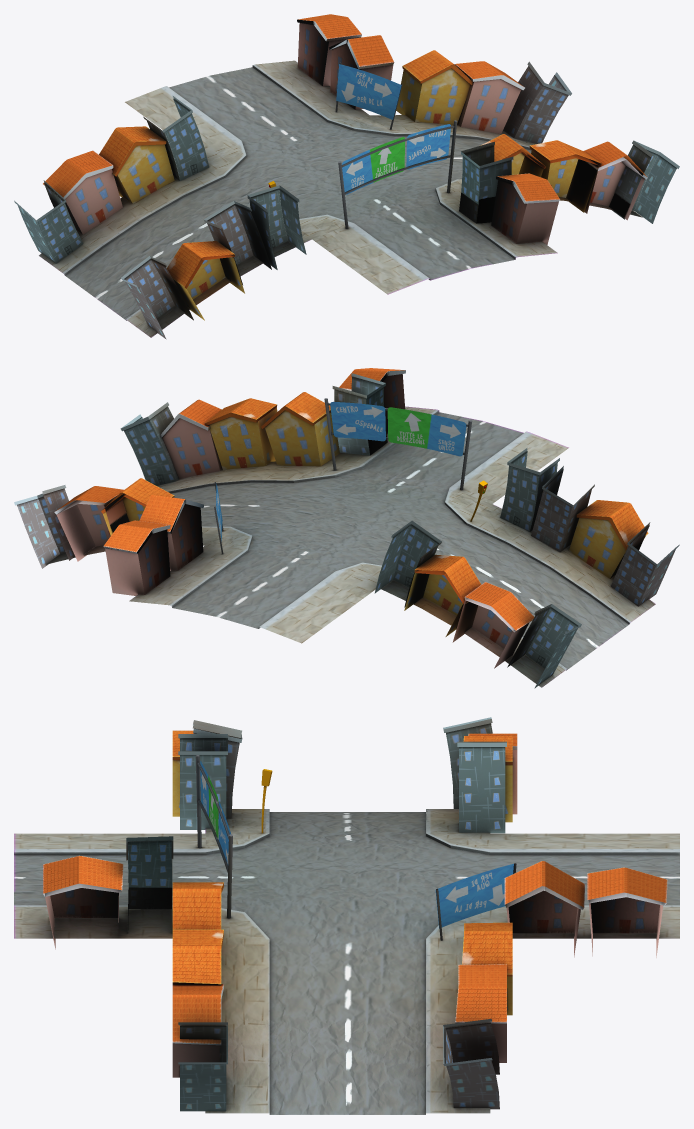
Rendered from modulo_B.FBX.
3 renders of one model, top to bottom at view 1: azimuth 30°, elevation 25°; view 2: azimuth 150°, elevation 25°; view 3: azimuth 270°, elevation 25°, orthographic. The views are drawn at different scales.
Parts seen in each view (by area): view 1: modulo_B; view 2: modulo_B; view 3: modulo_B.
Part boxes in pixels (x1,y1,x2,y2): modulo_B: [14, 14, 679, 339]; modulo_B: [14, 368, 679, 688]; modulo_B: [14, 717, 679, 1114].
Size of the model in its own units: 222 by 53.28 by 186.
